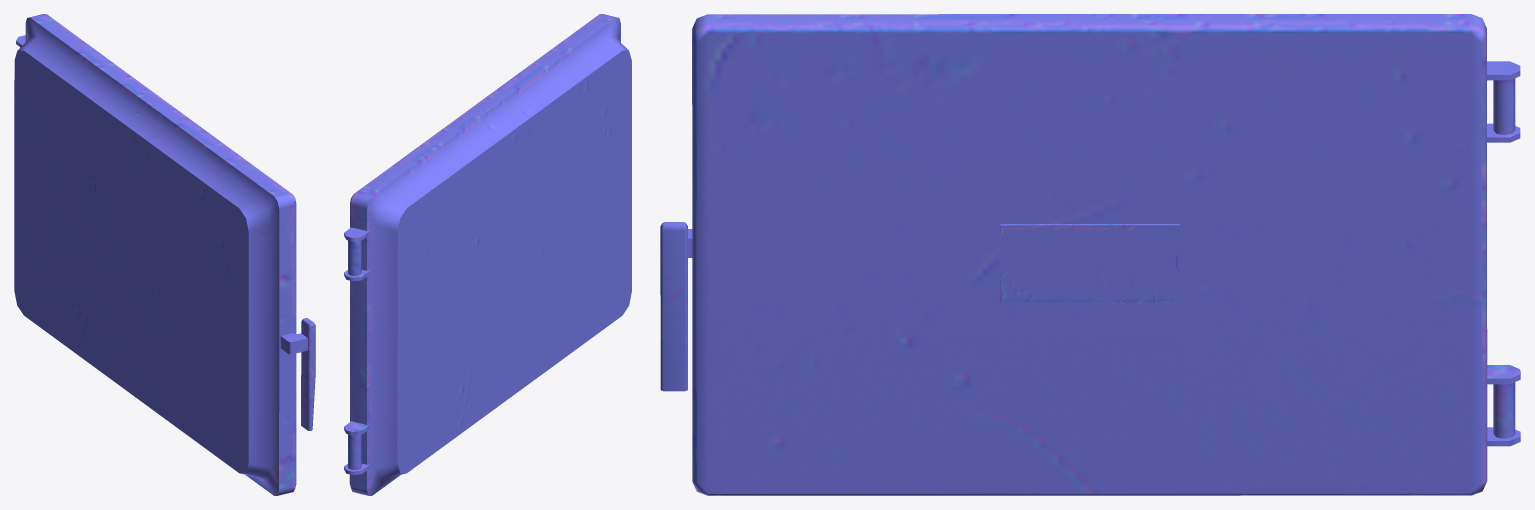
File: Morgue Door.fbx
The picture shows the model from 3 angles, left to right: view 1: azimuth 30°, elevation 25°; view 2: azimuth 150°, elevation 25°; view 3: azimuth 270°, elevation 25°; orthographic projection. The views are drawn at different scales.
Parts seen in each view (by area): view 1: MDoor1; view 2: MDoor1; view 3: MDoor1.
Boxes of the visible parts, box(x1,y1,x2,y2) form: MDoor1: box(14, 14, 315, 495); MDoor1: box(344, 14, 631, 495); MDoor1: box(660, 14, 1520, 495).
Size of the model in its own units: 14.12 by 84.41 by 140.
